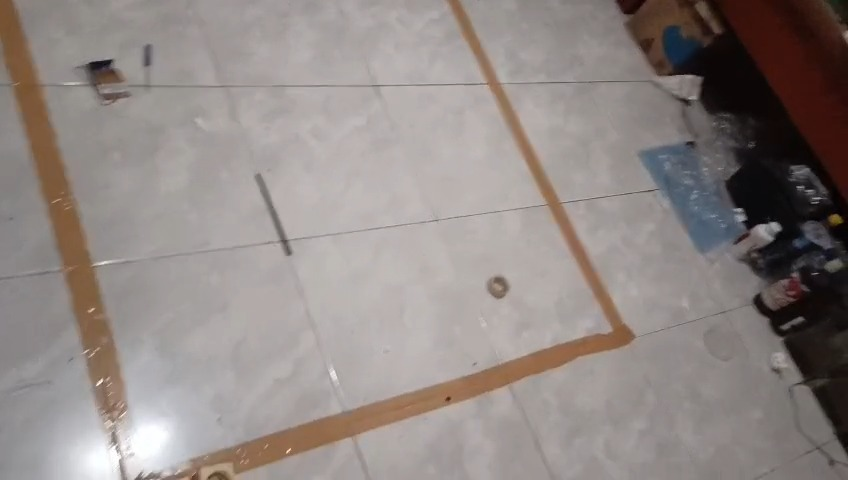floor marking: (186, 0, 634, 472), (0, 0, 128, 467)
